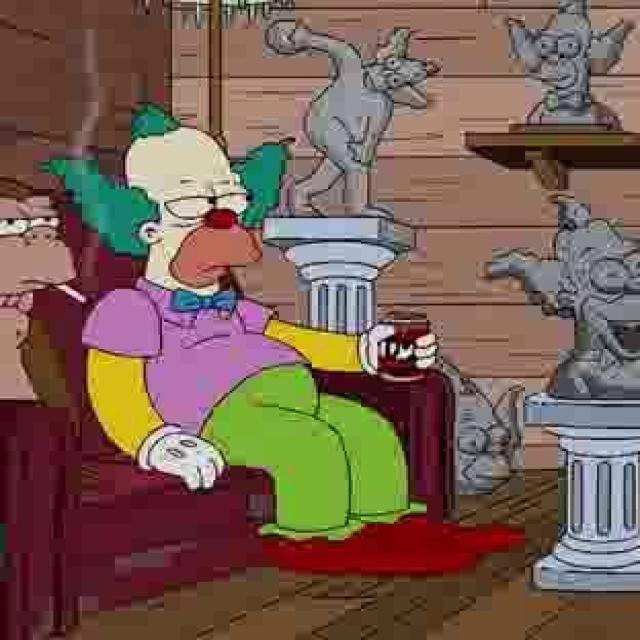Krusty the Clown: (49, 106, 296, 304)
